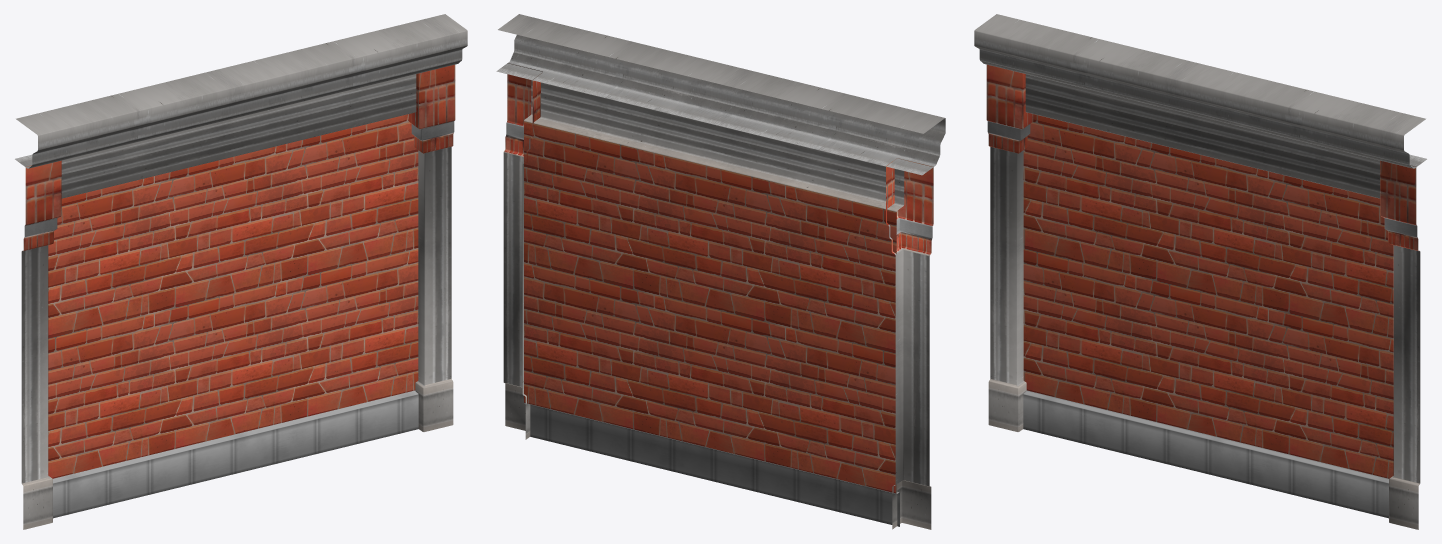
Rendered from SM_Facade_02.fbx.
3 renders of one model, left to right at view 1: azimuth 30°, elevation 25°; view 2: azimuth 150°, elevation 25°; view 3: azimuth 330°, elevation 25°, orthographic.
Parts seen in each view (by area): view 1: SM_Facade_02; view 2: SM_Facade_02; view 3: SM_Facade_02.
Boxes of the visible parts, x1,y1,x2,y2 form: SM_Facade_02: (15,14,467,529); SM_Facade_02: (496,14,945,529); SM_Facade_02: (974,14,1426,529).
Bounding box in the file's own units: 597 × 57.71 × 538.
